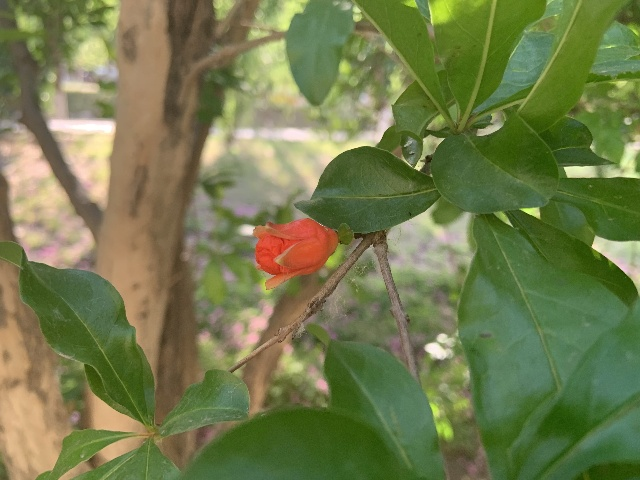flower: (253, 217, 338, 289)
